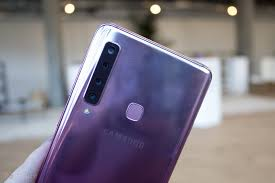samsung: (33, 23, 216, 183)
